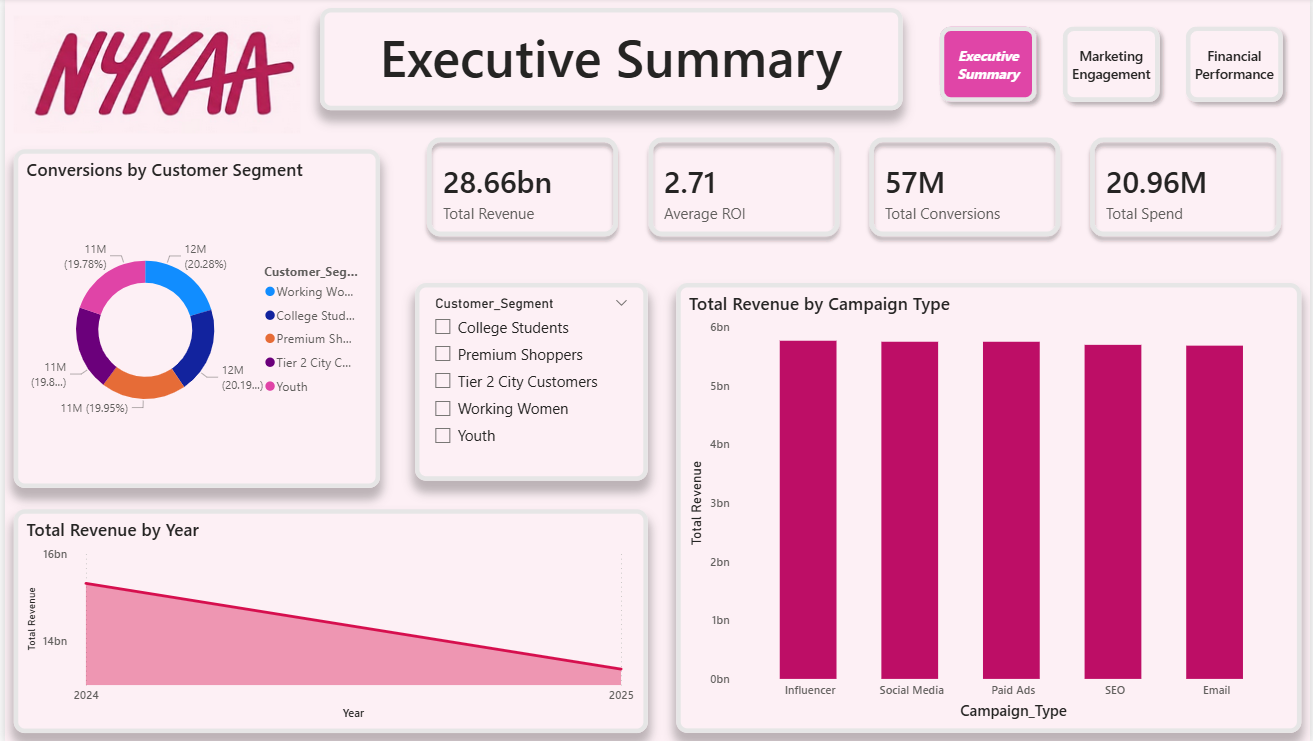

This screenshot's page, from the dashboard's own definition file:
{"tool":"powerbi","page":{"name":"Executive Summary","canvas":[1400,800],"ordinal":0},"visuals":[{"type":"textbox","box":[337.8,10.7,624.7,109.9],"z":0},{"type":"image","box":[9.4,10.7,307,142.1],"z":1000},{"type":"cardVisual","fields":{"Data":["measure.Total Revenue","measure.Average ROI","measure.Total Conversions","measure.Total Spend"]},"box":[423.6,120.6,975.9,164.9],"z":2000},{"type":"clusteredColumnChart","title":"Total Revenue by Campaign Type","fields":{"Category":["marketing nykaa_campaign.Campaign_Type"],"Y":["measure.Total Revenue"]},"box":[719.8,305.6,670.2,482.6],"z":3000},{"type":"donutChart","title":"Conversions by Customer Segment","fields":{"Y":["Sum(marketing nykaa_campaign.Conversions)"],"Category":["marketing nykaa_campaign.Customer_Segment"]},"box":[9.4,162.2,392.8,363.3],"z":4000},{"type":"areaChart","fields":{"Y":["measure.Total Revenue"],"Category":["marketing nykaa_campaign.Date.Variation.Date Hierarchy.Year","marketing nykaa_campaign.Date.Variation.Date Hierarchy.Quarter","marketing nykaa_campaign.Date.Variation.Date Hierarchy.Month","marketing nykaa_campaign.Date.Variation.Date Hierarchy.Day"]},"box":[9.4,548.3,679.6,239.9],"z":5000},{"type":"slicer","fields":{"Values":["marketing nykaa_campaign.Customer_Segment"]},"box":[439.7,305.6,249.3,211.8],"z":6000},{"type":"pageNavigator","box":[993.3,21.4,386.1,99.2],"z":7000}]}

Visuals, with their boxes in screenshot pixels (x1, y1, x2, y2), scaled from the page's 1400x800 canvas onto the 1313x741 screenshot:
textbox: box(317, 10, 903, 112)
image: box(9, 10, 297, 142)
cardVisual - measure.Total Revenue x measure.Average ROI: box(397, 112, 1312, 264)
"Total Revenue by Campaign Type" clusteredColumnChart: box(675, 283, 1304, 730)
"Conversions by Customer Segment" donutChart: box(9, 150, 377, 487)
areaChart - measure.Total Revenue x marketing nykaa_campaign.Date.Variation.Date Hierarchy.Year: box(9, 508, 646, 730)
slicer - marketing nykaa_campaign.Customer_Segment: box(412, 283, 646, 479)
pageNavigator: box(932, 20, 1294, 112)
